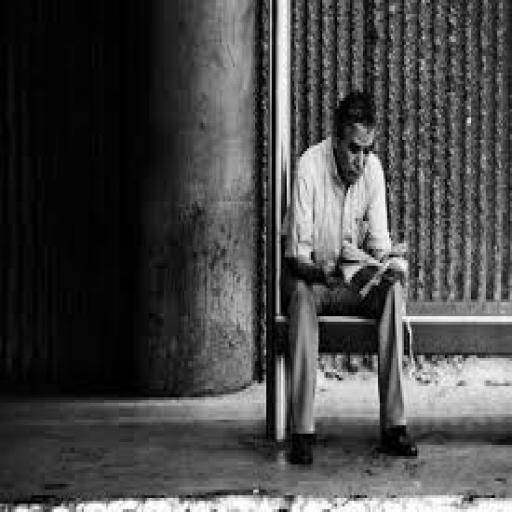sitting: (279, 87, 421, 467)
